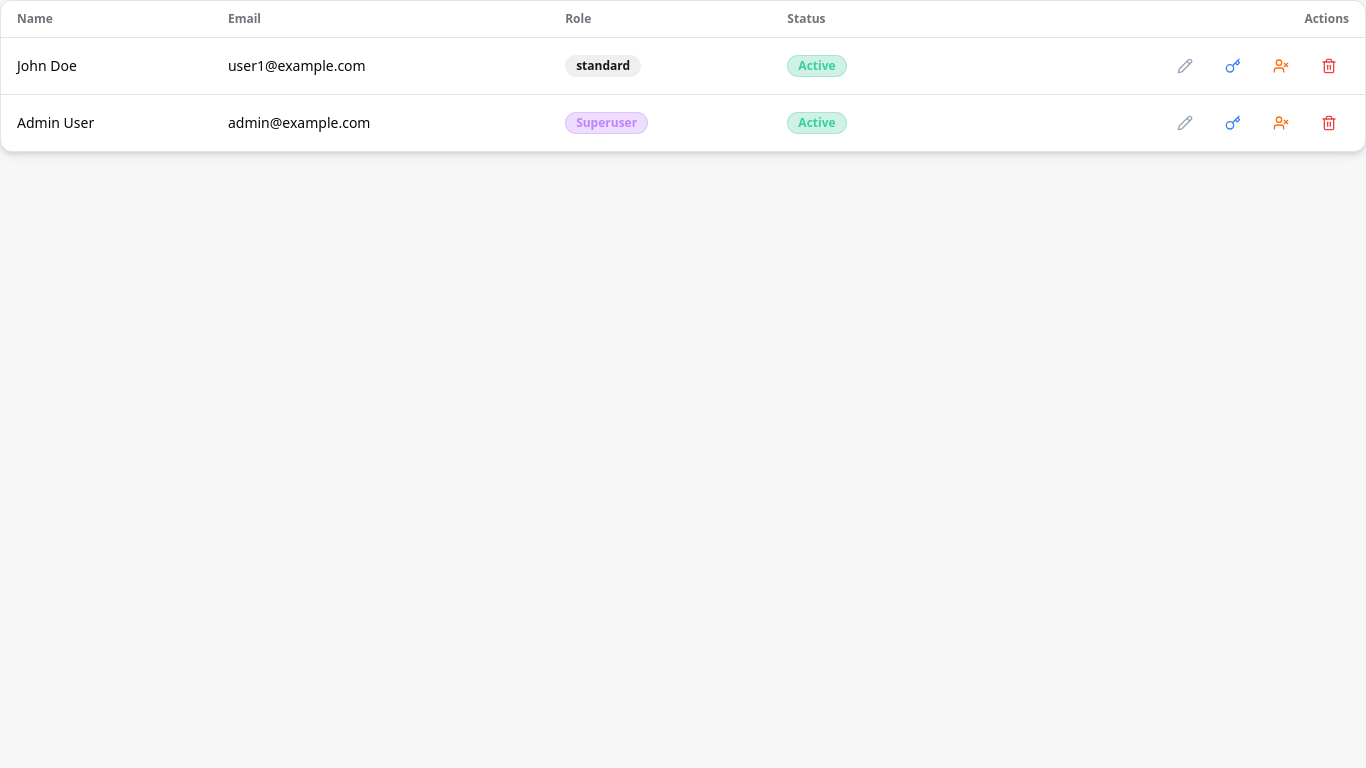
Test: UsersTable › opens edit dialog on click
Click the button titled "Edit User" in the row of "John Doe" at (1185, 66), box left=1165, top=46, right=1205, bottom=86
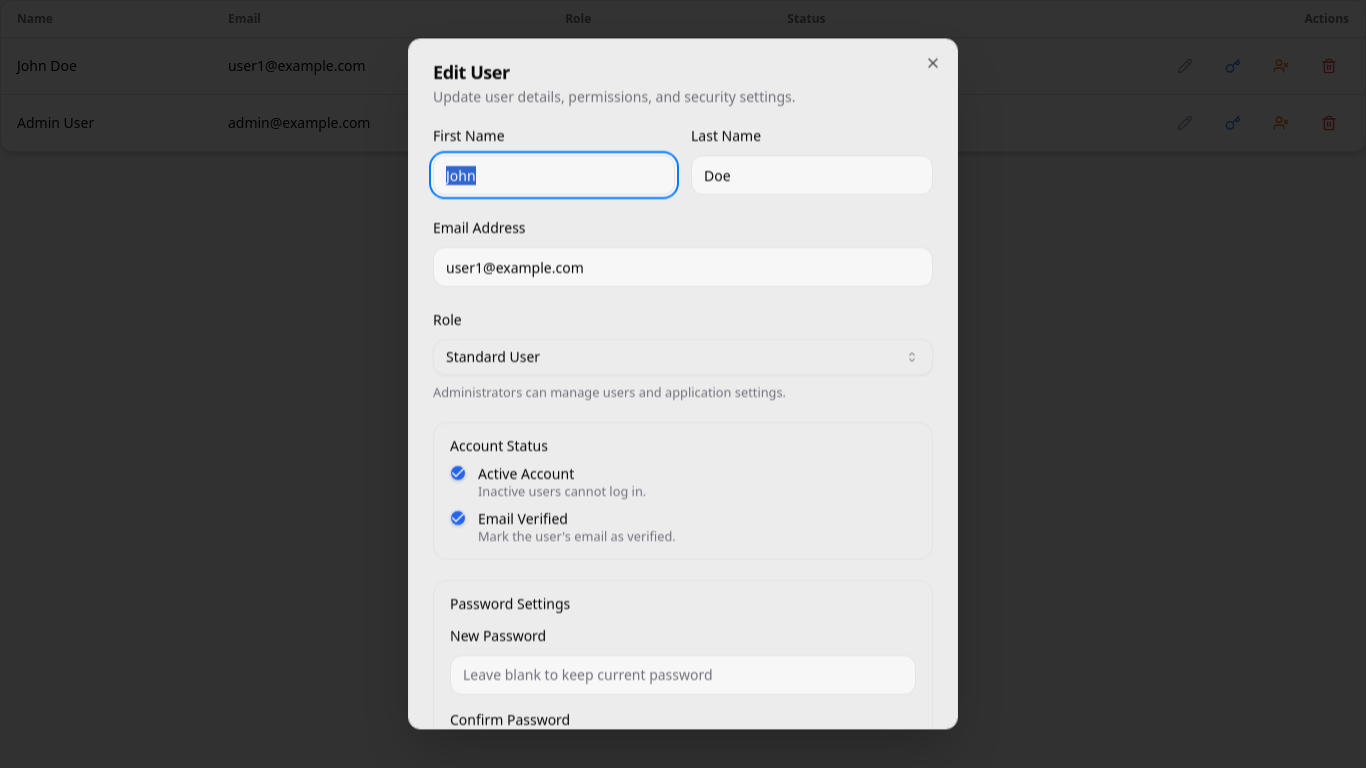
Expected: the heading "Edit User" is shown, left=433, top=60, right=510, bottom=84
